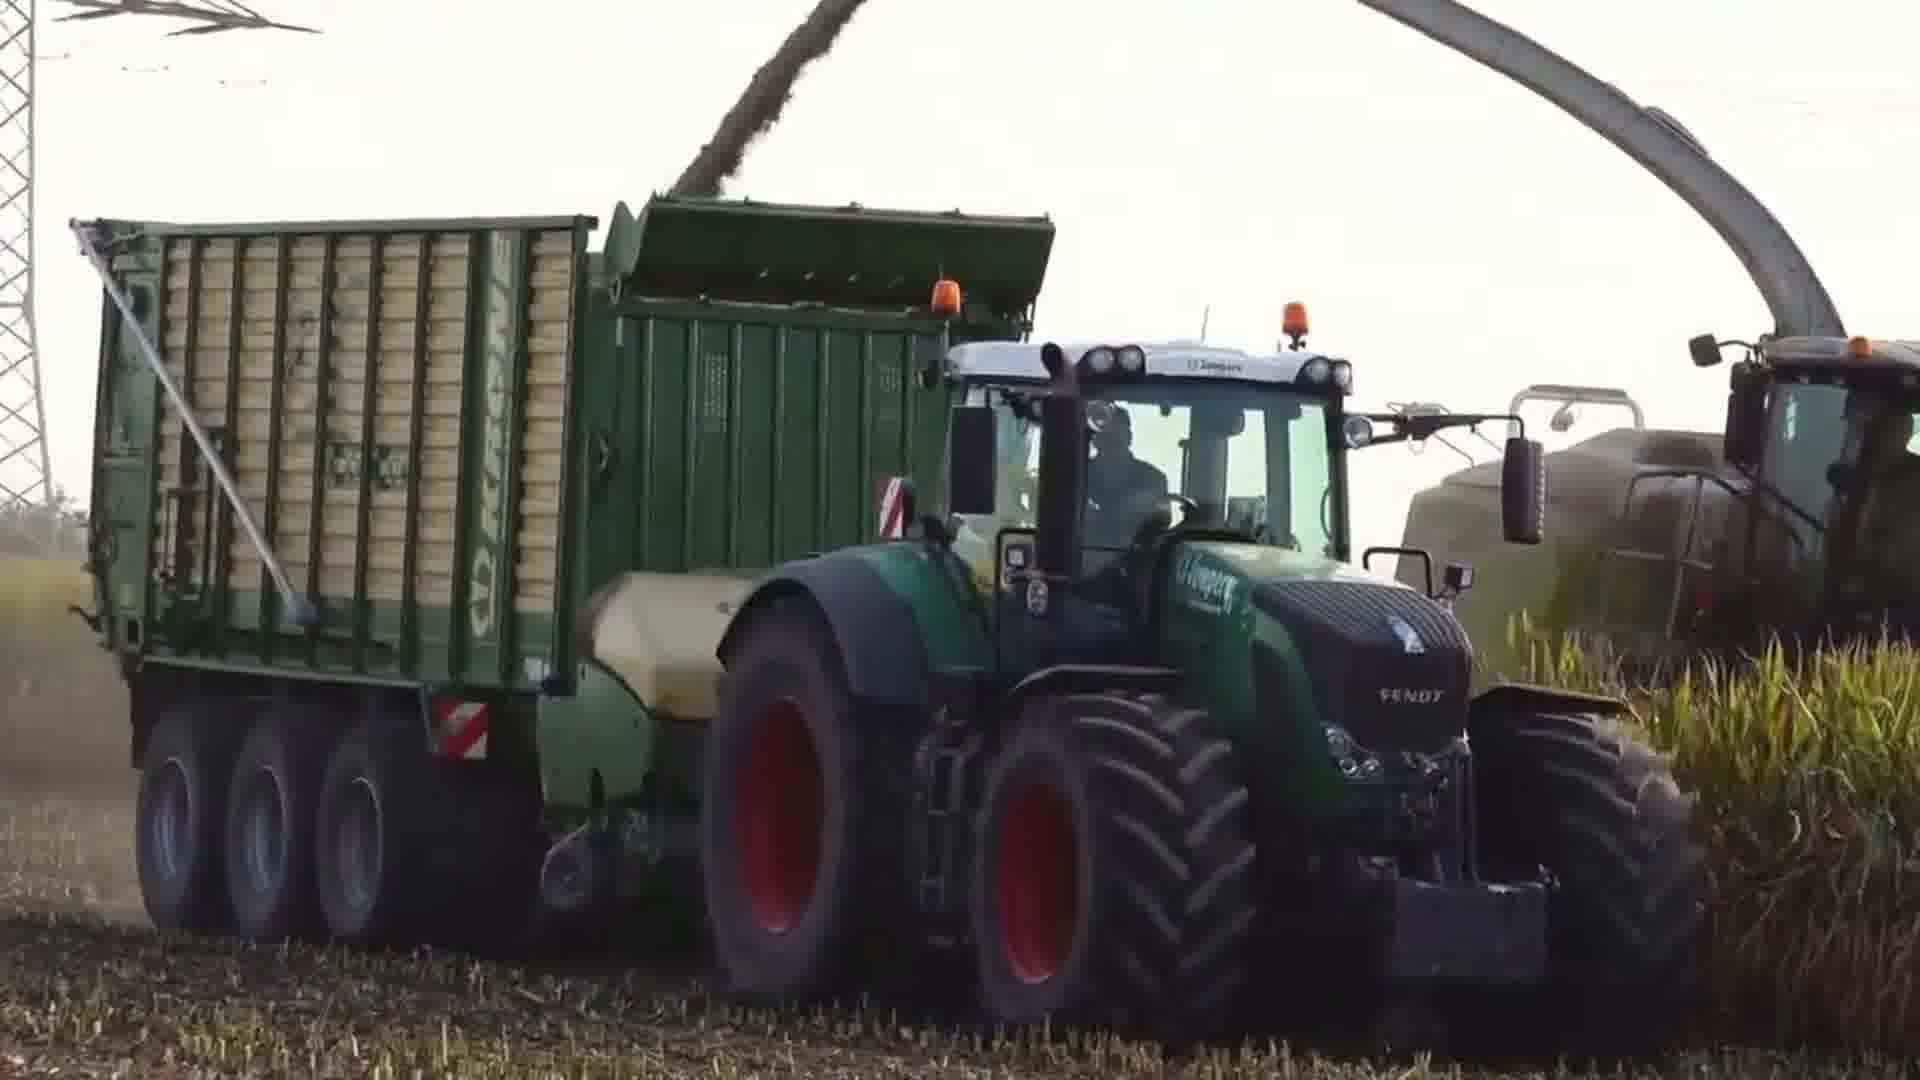combine harvester: (1350, 0, 1920, 734)
tractor: (676, 269, 1716, 1066)
trailer: (63, 184, 1063, 964)
